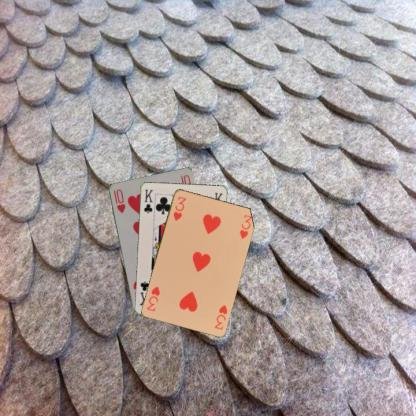10h: (111, 186, 126, 214)
3h: (171, 193, 188, 222), (212, 302, 228, 331)
Kc: (141, 187, 154, 214)
